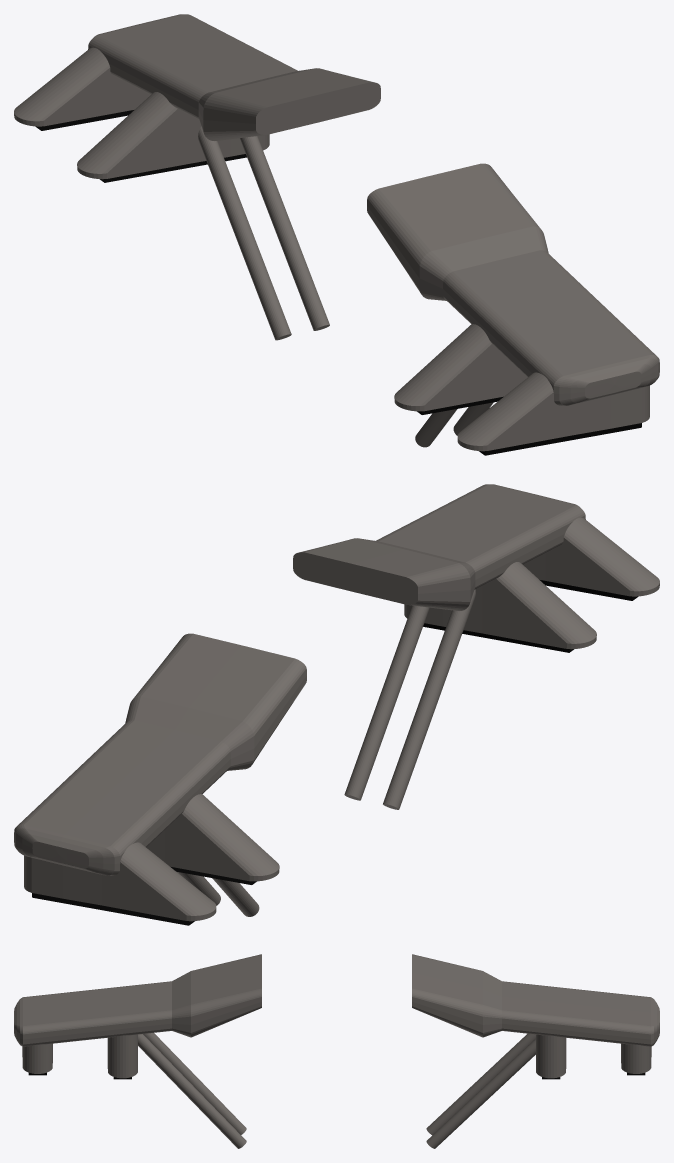
File: puh60l1.glb
3 renders of one model, top to bottom at view 1: azimuth 30°, elevation 25°; view 2: azimuth 150°, elevation 25°; view 3: azimuth 270°, elevation 25°, orthographic. The views are drawn at different scales.
Parts seen in each view (by area): view 1: 円柱, 円柱.003, 円柱.002; view 2: 円柱.003, 円柱, 円柱.002; view 3: 円柱, 円柱.003, 円柱.002.
Part boxes in pixels (left/top/right/bottom): 円柱: left=367, top=163, right=659, bottom=455; 円柱.003: left=14, top=14, right=380, bottom=182; 円柱.002: left=198, top=126, right=493, bottom=447; 円柱.003: left=14, top=633, right=306, bottom=925; 円柱: left=293, top=484, right=659, bottom=652; 円柱.002: left=176, top=589, right=475, bottom=916; 円柱: left=14, top=954, right=261, bottom=1079; 円柱.003: left=412, top=954, right=659, bottom=1079; 円柱.002: left=138, top=1033, right=535, bottom=1148.
Bounding box in the file's own units: 1.32 × 1.61 × 5.52.
4 materials, 1 textured.
